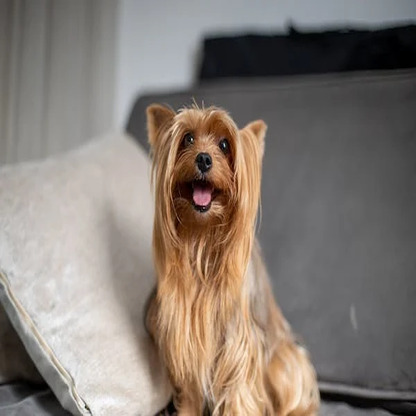yorkshire: (142, 102, 323, 416)
